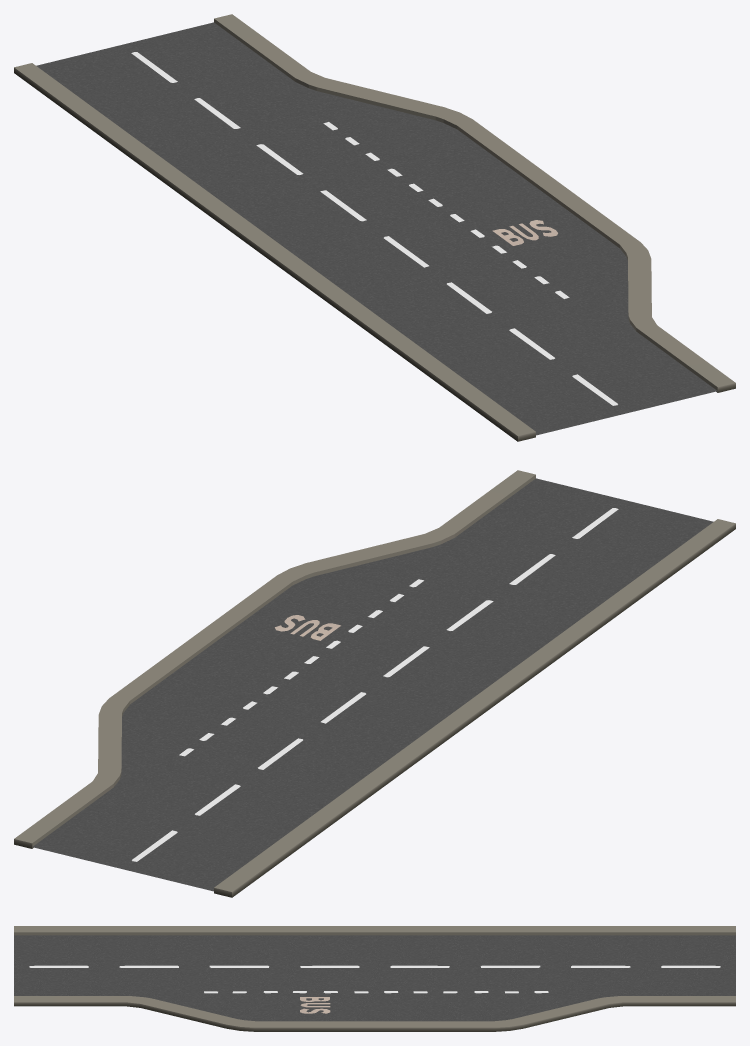
3 renders of one model, top to bottom at view 1: azimuth 30°, elevation 25°; view 2: azimuth 150°, elevation 25°; view 3: azimuth 270°, elevation 25°, orthographic. The views are drawn at different scales.
Visible parts, largest first — view 1: Road_1S; view 2: Road_1S; view 3: Road_1S.
Boxes of the visible parts, x1,y1,x2,y2 form: Road_1S: (14, 14, 735, 441); Road_1S: (14, 470, 735, 897); Road_1S: (14, 926, 735, 1031).
Bounding box in the file's own units: 19932 × 374 × 59796.
